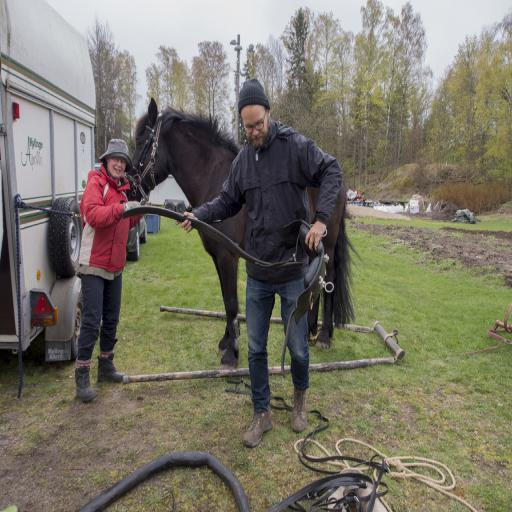horse: (120, 94, 364, 368)
